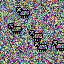sheep: (7, 22, 23, 34), (16, 7, 31, 19), (34, 40, 48, 52), (29, 30, 43, 41), (51, 40, 64, 51)
